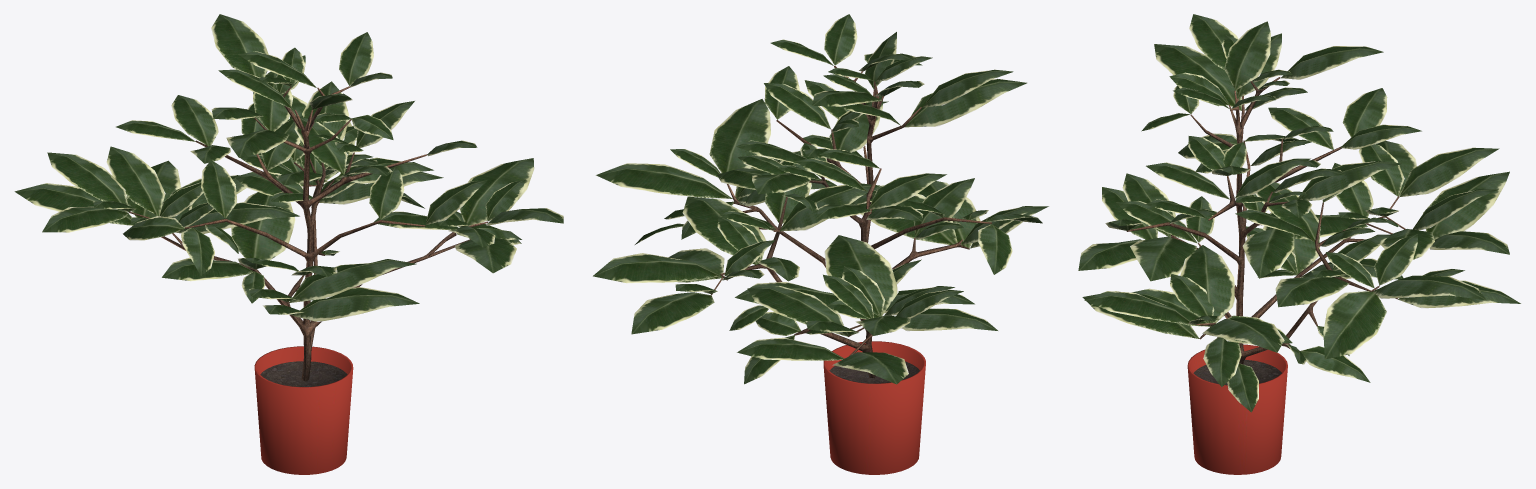
File: ficus.glb
3 renders of one model, left to right at view 1: azimuth 30°, elevation 25°; view 2: azimuth 150°, elevation 25°; view 3: azimuth 270°, elevation 25°, orthographic. The views are drawn at different scales.
Parts seen in each view (by area): view 1: Ficus_low; view 2: Ficus_low; view 3: Ficus_low.
Boxes of the visible parts, x1=… form: Ficus_low: x1=14, y1=14, x2=563, y2=474; Ficus_low: x1=593, y1=14, x2=1048, y2=474; Ficus_low: x1=1078, y1=14, x2=1520, y2=474.
Bounding box in the file's own units: 103 × 90.07 × 88.25.
Materials: 2 (2 with a texture image).
